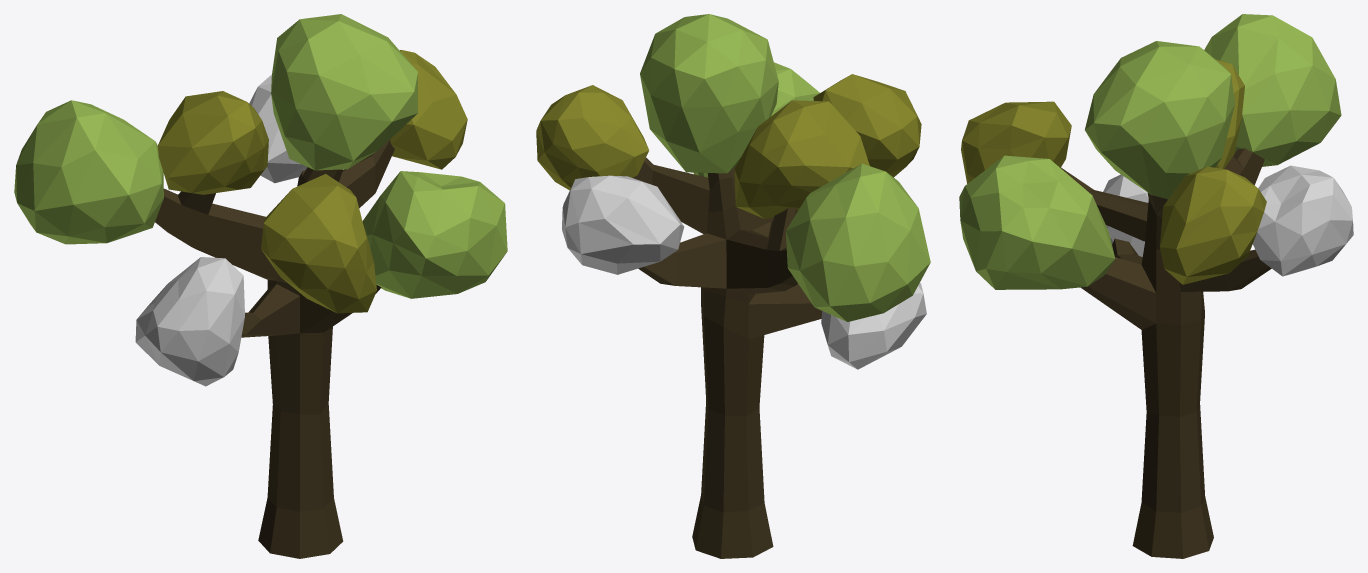
Rendered from tree1.gltf.
3 views of the same model, side by side, from view 1: azimuth 30°, elevation 25°; view 2: azimuth 150°, elevation 25°; view 3: azimuth 270°, elevation 25° (orthographic).
Visible parts, largest first — view 1: Arbre_Normal_Cylinder.002; view 2: Arbre_Normal_Cylinder.002; view 3: Arbre_Normal_Cylinder.002.
Part boxes in pixels (<box>): Arbre_Normal_Cylinder.002: <box>14,14,507,558</box>; Arbre_Normal_Cylinder.002: <box>536,14,930,558</box>; Arbre_Normal_Cylinder.002: <box>959,14,1353,558</box>.
Bounding box in the file's own units: 3.18 × 3.92 × 2.75.
